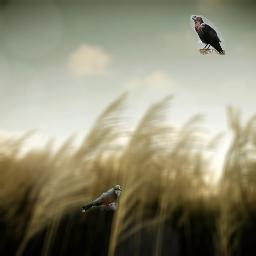Crow: (190, 15, 225, 55)
Cuckoo: (82, 185, 122, 212)
